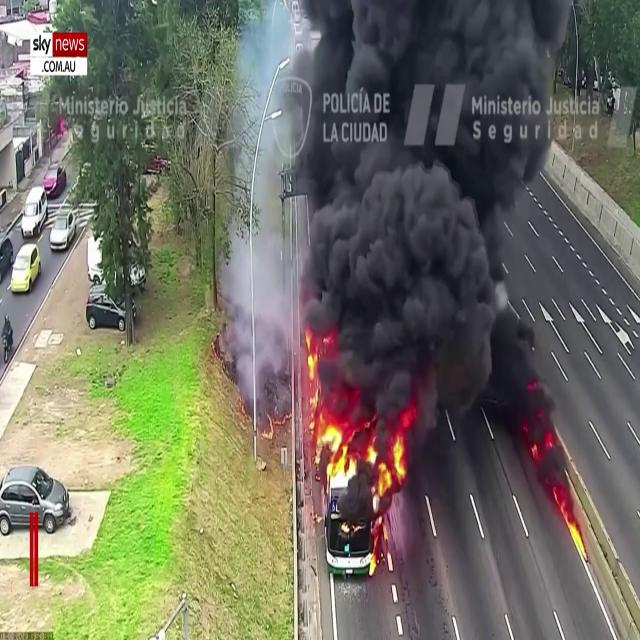Fire: (325, 409, 413, 494), (300, 334, 343, 467)
Smoke: (225, 0, 556, 361)
